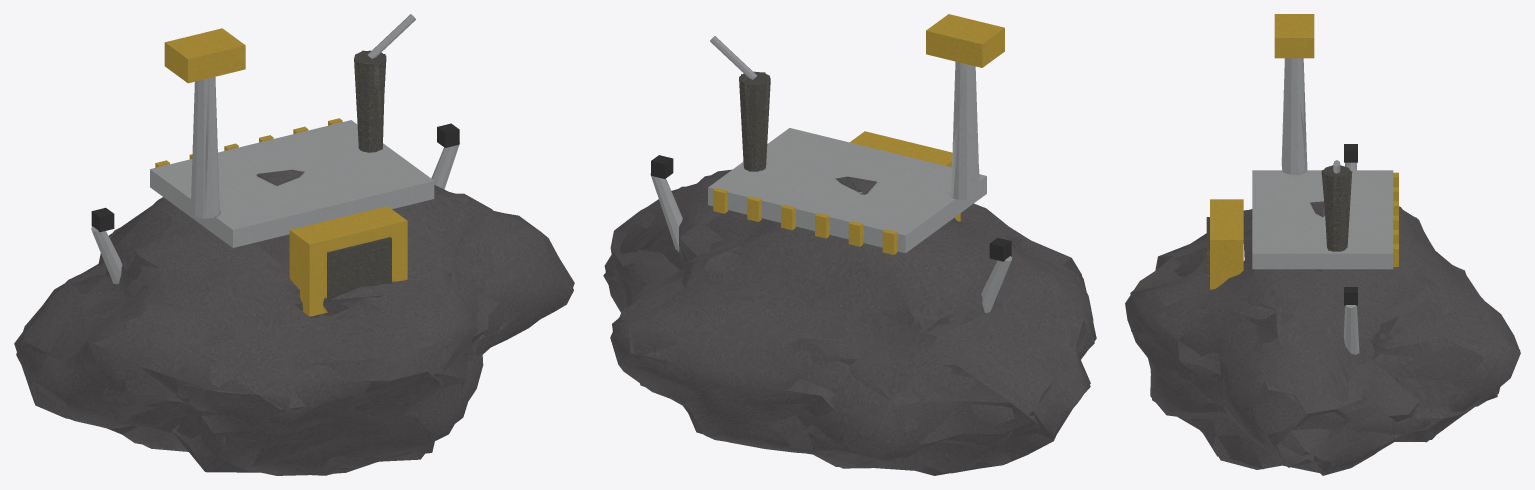
The model's file is sd_prop_lair4.glb.
3 views of the same model, side by side, from view 1: azimuth 30°, elevation 25°; view 2: azimuth 150°, elevation 25°; view 3: azimuth 270°, elevation 25° (orthographic). The views are drawn at different scales.
Parts seen in each view (by area): view 1: LOD0_body, LOD1_body; view 2: LOD0_body, LOD1_body; view 3: LOD0_body, LOD1_body.
Boxes of the visible parts, <box> form: LOD0_body: <box>16,14,573,475</box>; LOD1_body: <box>14,50,574,475</box>; LOD0_body: <box>604,14,1094,475</box>; LOD1_body: <box>603,63,1096,473</box>; LOD0_body: <box>1125,14,1520,475</box>; LOD1_body: <box>1130,58,1520,473</box>.
Bounding box in the file's own units: 1 × 0.8319 × 0.7993.
Materials: 1 (1 with a texture image).
